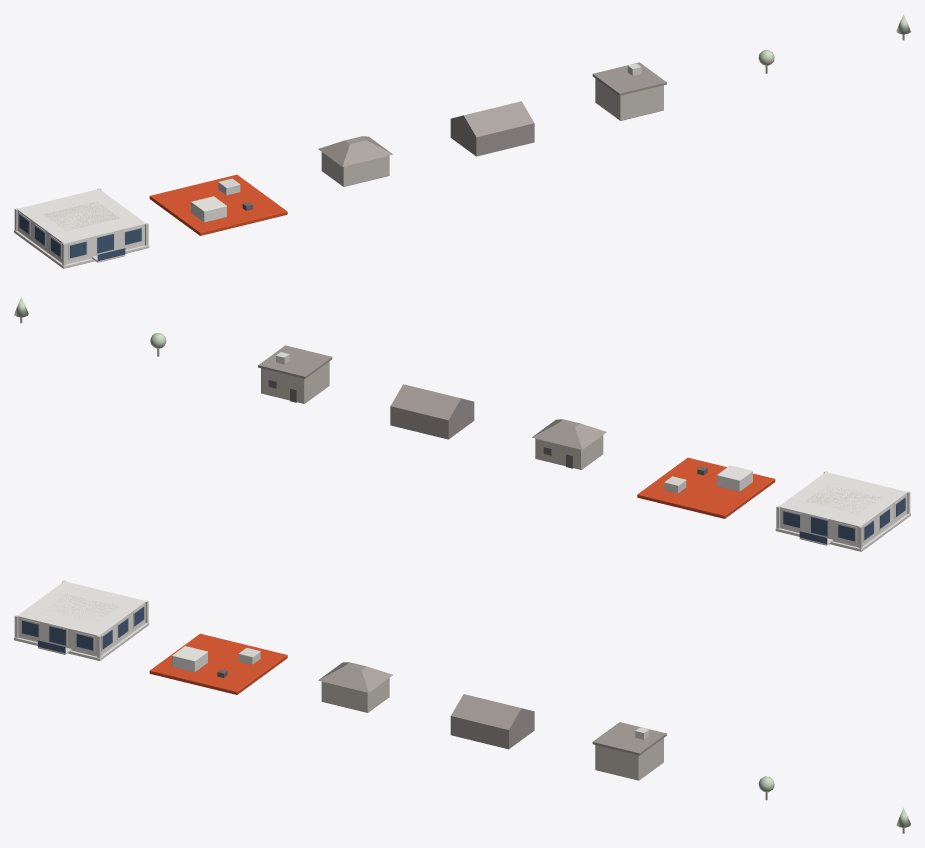
File: maket.glb
The picture shows the model from 3 angles, top to bottom: view 1: azimuth 30°, elevation 25°; view 2: azimuth 150°, elevation 25°; view 3: azimuth 330°, elevation 25°; orthographic projection.
Visible parts, largest first — view 1: Floor, Roof, Old_2, Old_3, Old_1, wall; view 2: Floor, Roof, Old_2, Old_3, Old_1, wall; view 3: Floor, Roof, Old_2, Old_3, Old_1.
Part boxes in pixels (x1=…): Floor: x1=14, y1=188, x2=149, y2=268; Roof: x1=149, y1=174, x2=287, y2=235; Old_2: x1=450, y1=101, x2=534, y2=156; Old_3: x1=592, y1=62, x2=666, y2=120; Old_1: x1=318, y1=136, x2=392, y2=186; wall: x1=43, y1=201, x2=118, y2=230; Floor: x1=775, y1=471, x2=910, y2=551; Roof: x1=637, y1=457, x2=775, y2=518; Old_2: x1=390, y1=384, x2=474, y2=439; Old_3: x1=258, y1=345, x2=332, y2=403; Old_1: x1=532, y1=419, x2=606, y2=469; wall: x1=806, y1=485, x2=880, y2=513; Floor: x1=14, y1=580, x2=149, y2=660; Roof: x1=149, y1=633, x2=287, y2=694; Old_2: x1=450, y1=694, x2=534, y2=749; Old_3: x1=592, y1=722, x2=666, y2=780; Old_1: x1=318, y1=662, x2=392, y2=712.
Size of the model in its own units: 15.91 by 0.62 by 1.9.
